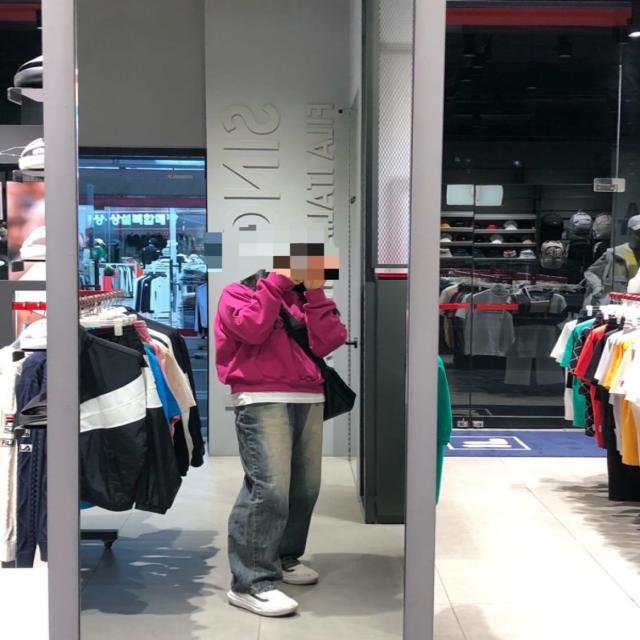denimpants: (228, 396, 325, 590)
hoodies: (215, 267, 351, 394)
